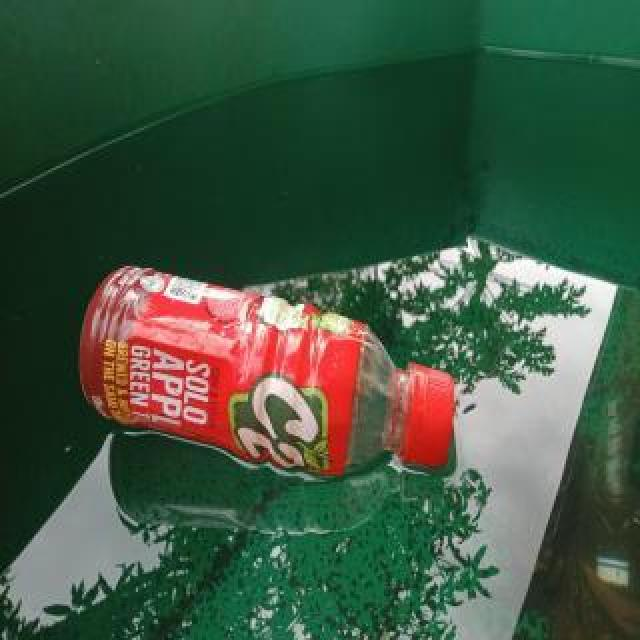bottle: (77, 261, 457, 481)
